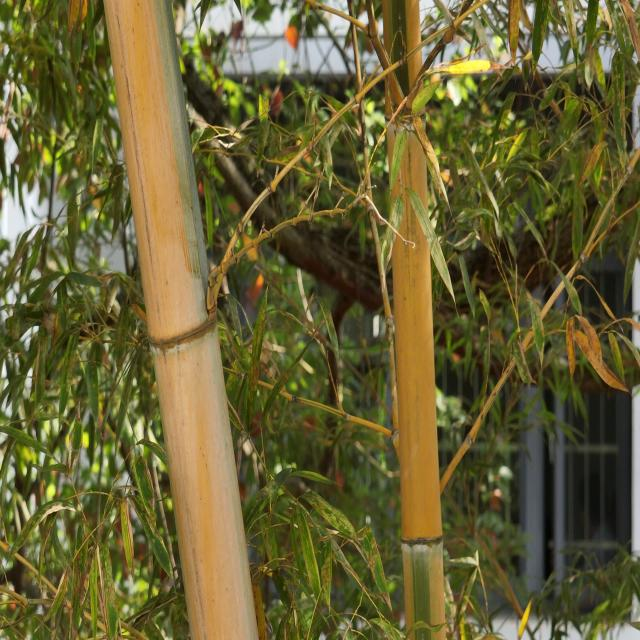Bamboo-shoots: (382, 0, 446, 640)
